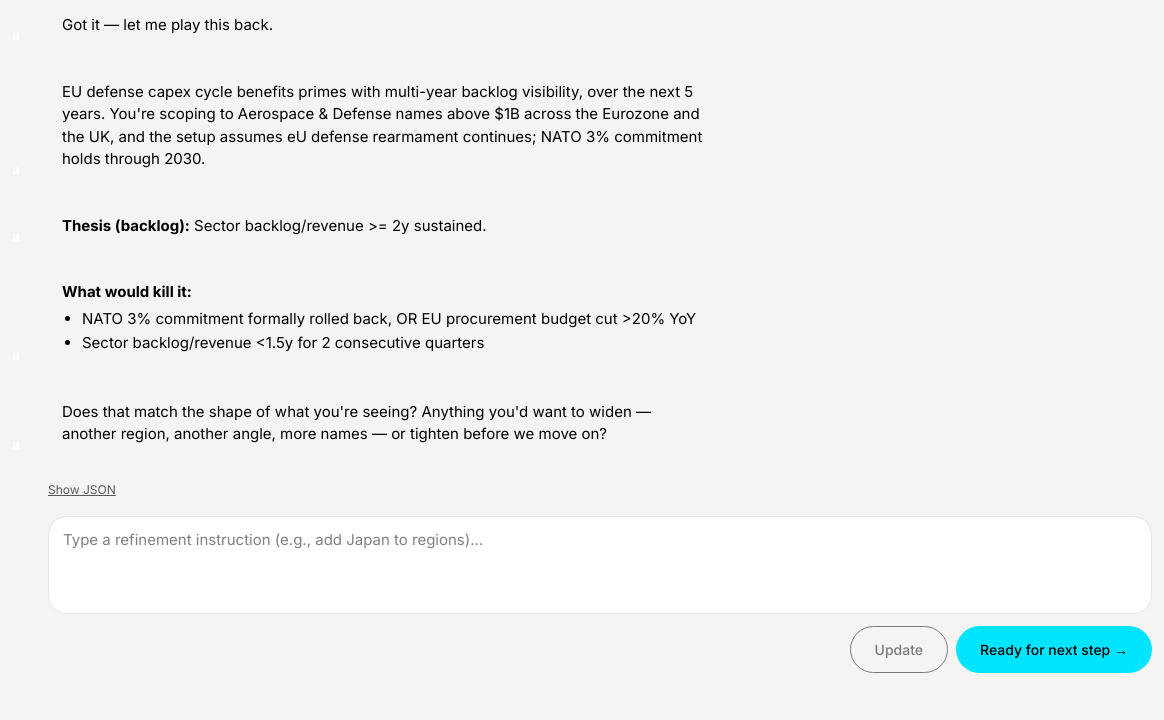
Scenario: <ThesisChatArtifact> › keeps the user instruction + narrator reply visible after Confirm (multi-turn history)
Type "add japan" into the text box with placeholder "refinement instruction".
click(600, 564); type("add japan")  # box [63, 528, 1137, 600]
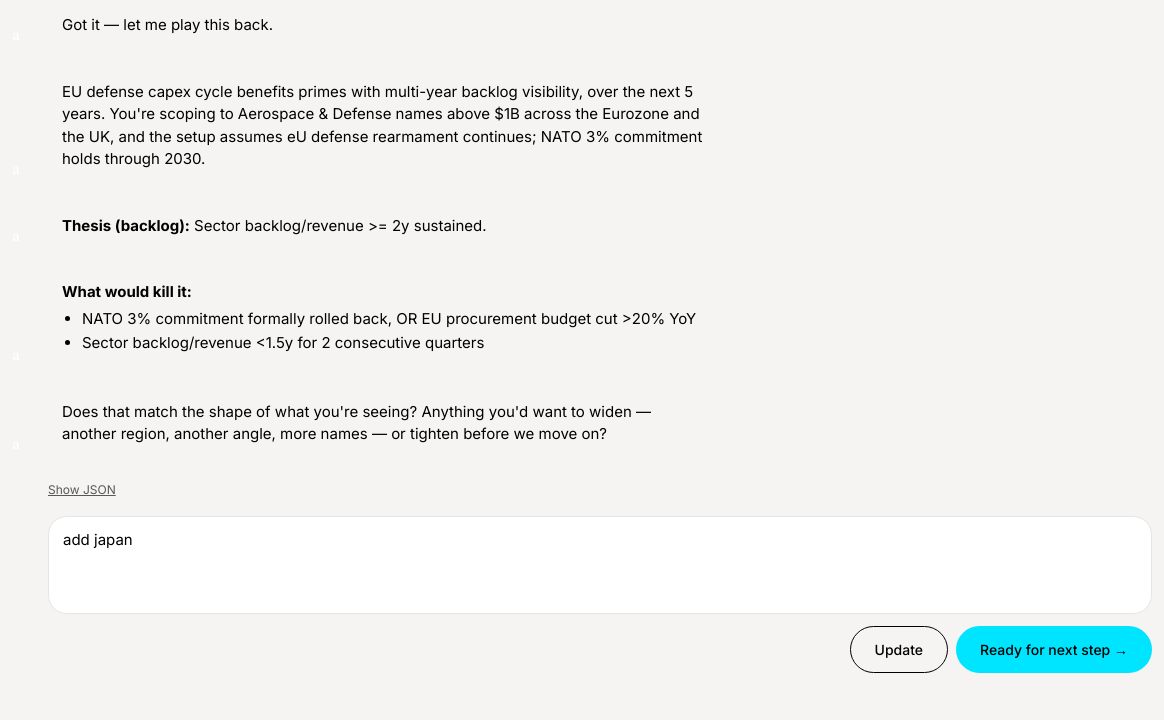
Click the button "Update".
click(899, 649)  # box [850, 626, 948, 672]
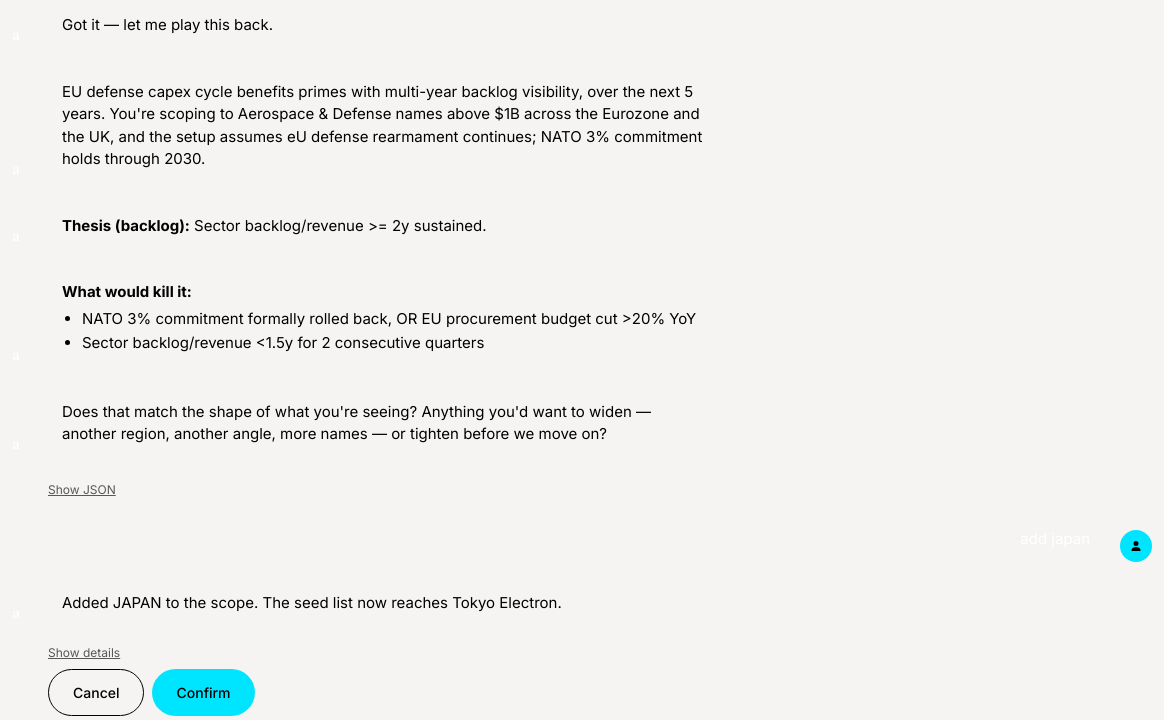
Click the button "Confirm".
click(204, 692)  # box [152, 668, 255, 716]
(page scrolled)
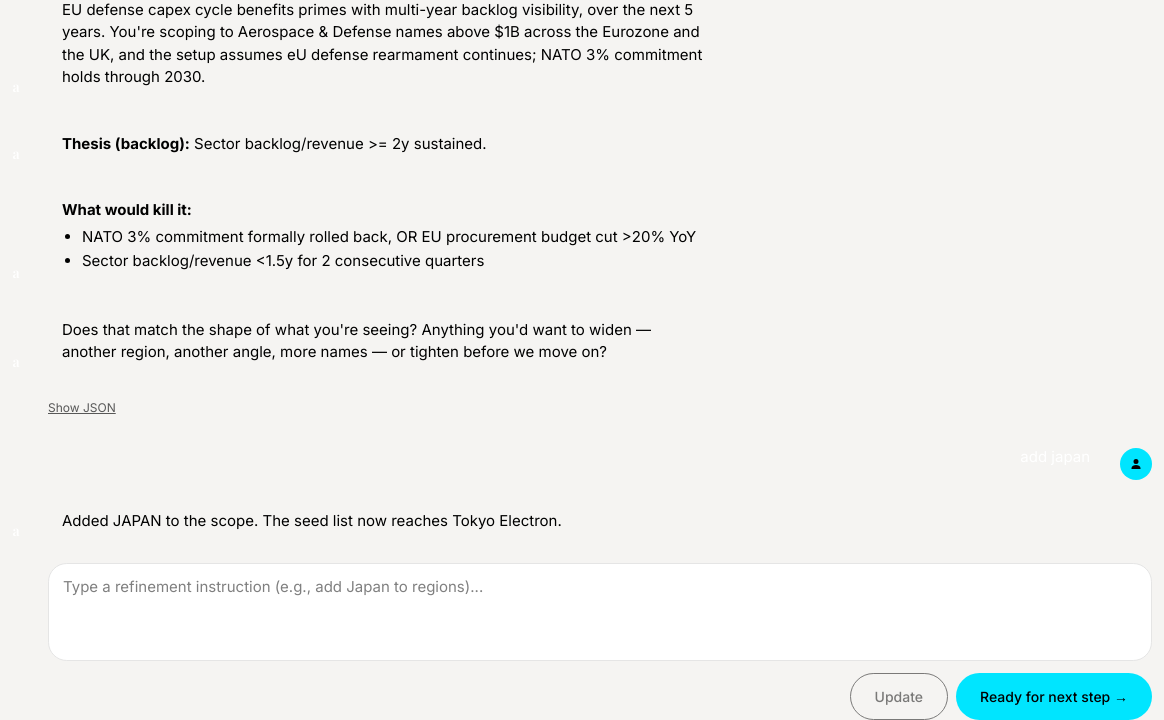
Expected: the text "Added JAPAN to the scope" is shown, [62, 511, 562, 530]
Expected: the text box with placeholder "refinement instruction" is enabled, [63, 576, 1137, 648]
Expected: the button "Confirm" is gone
